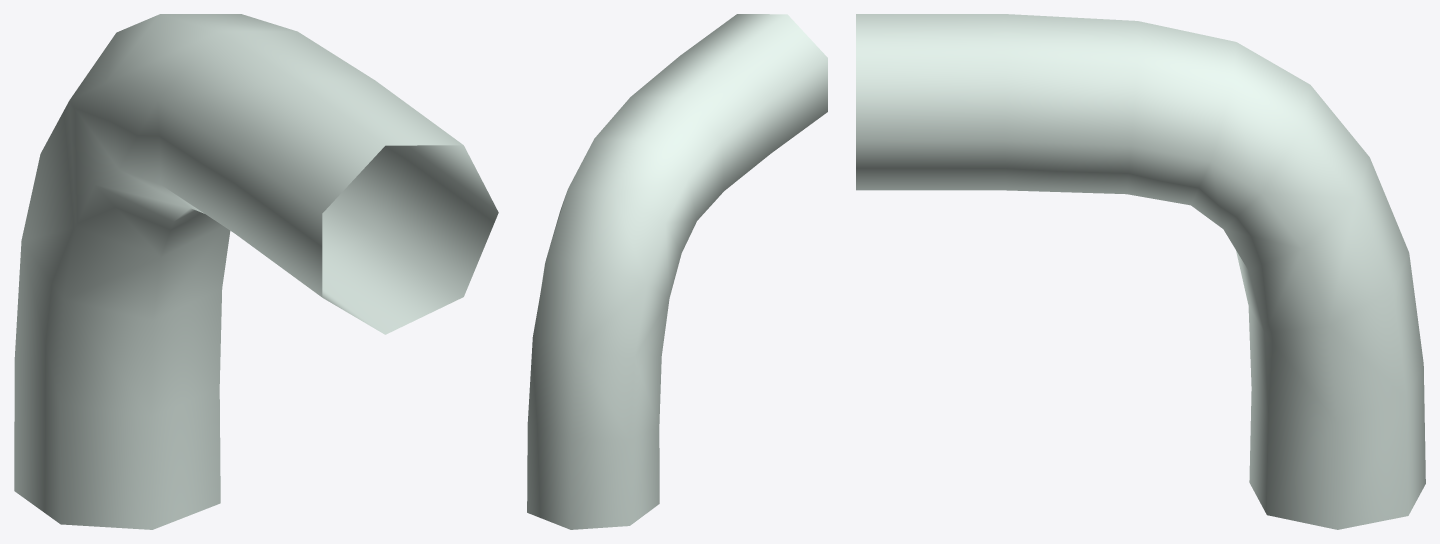
File: Norris_Maze_White_Wire_Out.fbx
3 renders of one model, left to right at view 1: azimuth 30°, elevation 25°; view 2: azimuth 150°, elevation 25°; view 3: azimuth 270°, elevation 25°, orthographic. The views are drawn at different scales.
Parts seen in each view (by area): view 1: WireDown1; view 2: WireDown1; view 3: WireDown1.
Part boxes in pixels (left/top/right/bottom): WireDown1: left=14, top=14, right=498, bottom=529; WireDown1: left=527, top=14, right=827, bottom=529; WireDown1: left=856, top=14, right=1425, bottom=529.
Size of the model in its own units: 0.9742 by 2.94 by 3.23.
